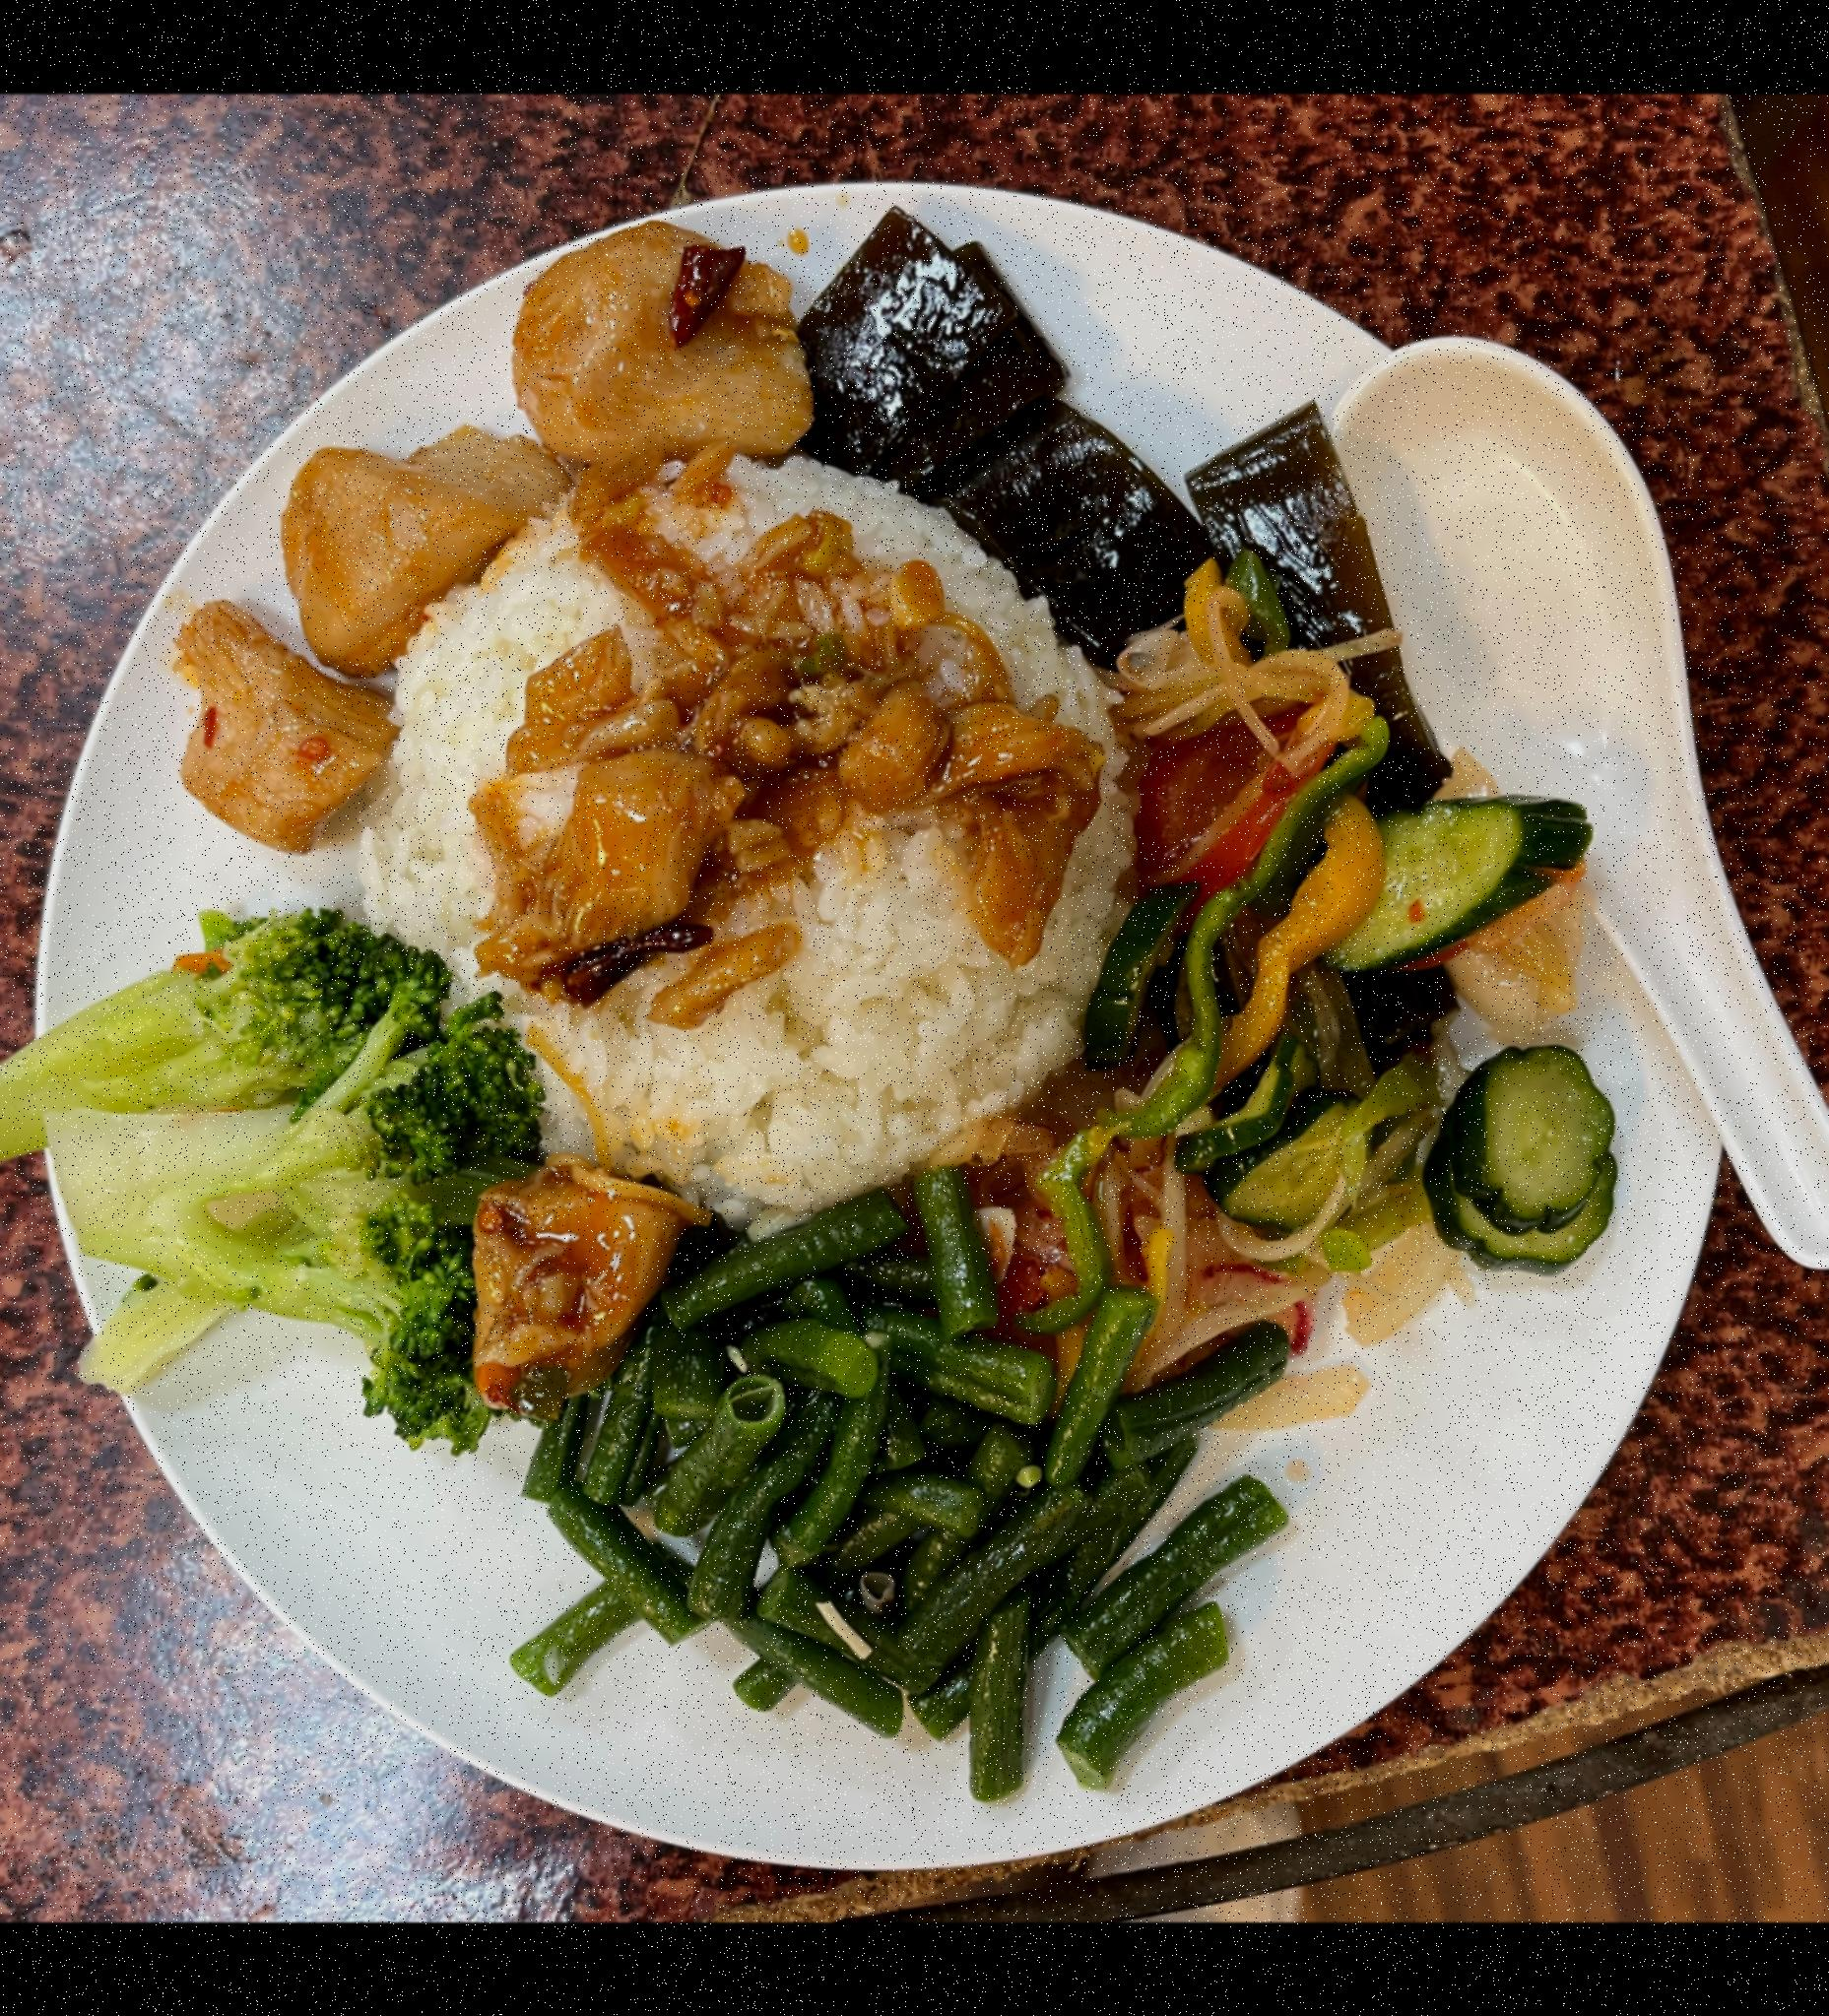big fried chicken leg: (0, 125, 1745, 1884)
big herbal chicken leg: (387, 483, 1110, 1208)
braised fish fillet: (501, 1224, 1223, 1788), (1070, 643, 1599, 1352), (778, 241, 1455, 762), (0, 934, 525, 1421)
braised pork: (156, 202, 821, 845)
